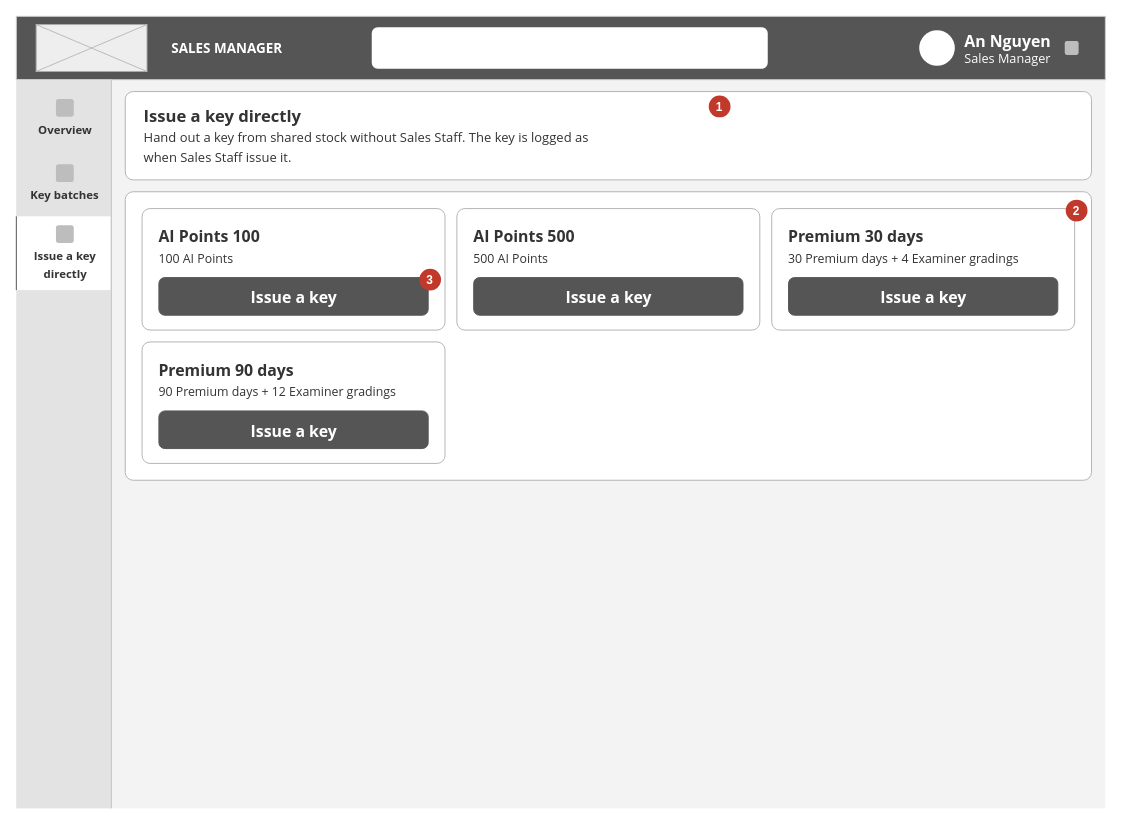
The diagram is 1122 pixels wide and 825 high, and some of its shapes have lost their labels. The centre of each missing label's shape, as x and y in pixels:
"AN" goes at pixel 936 47.
"Search this page" goes at pixel 569 47.
